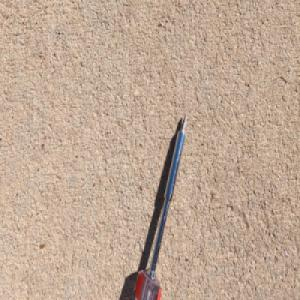Screwdriver: (128, 109, 188, 300)
